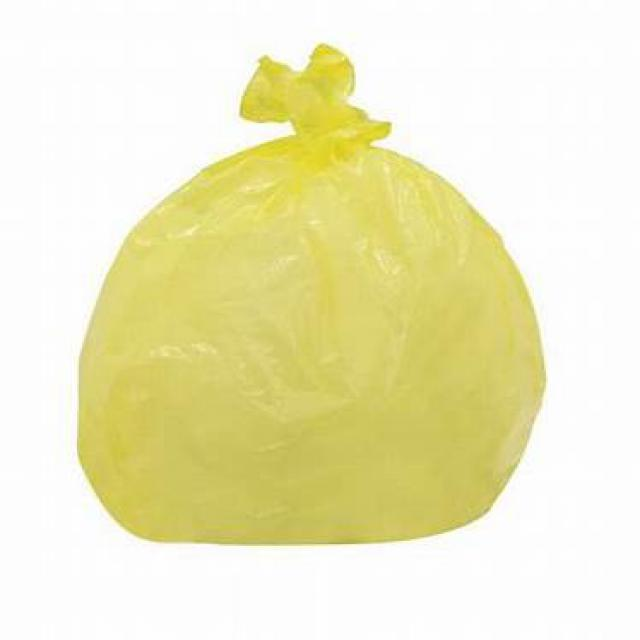waste: (77, 41, 527, 535)
